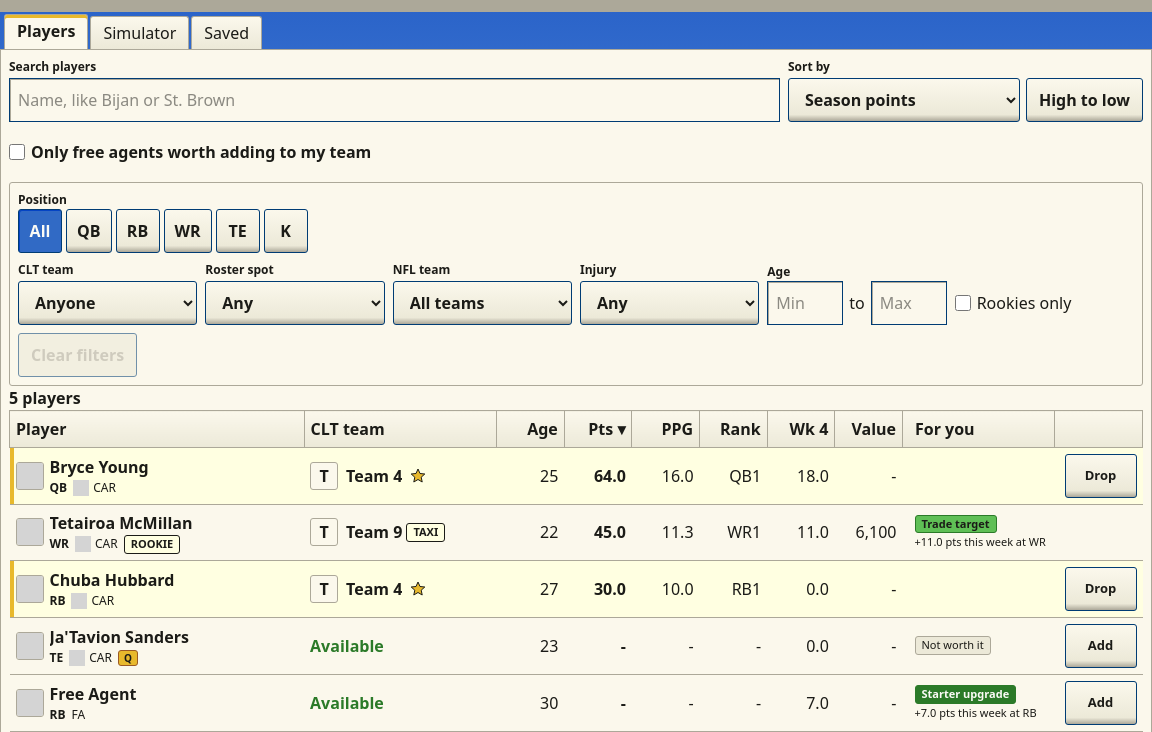
it: Players window › puts a free agent into the scenario from the list
Expected: the button "Tetairoa McMillan" is shown, [50,511,192,535]
Step 1. Click the button with aria-label "Add Free Agent" → (1100, 702), box [1064,680,1136,724]
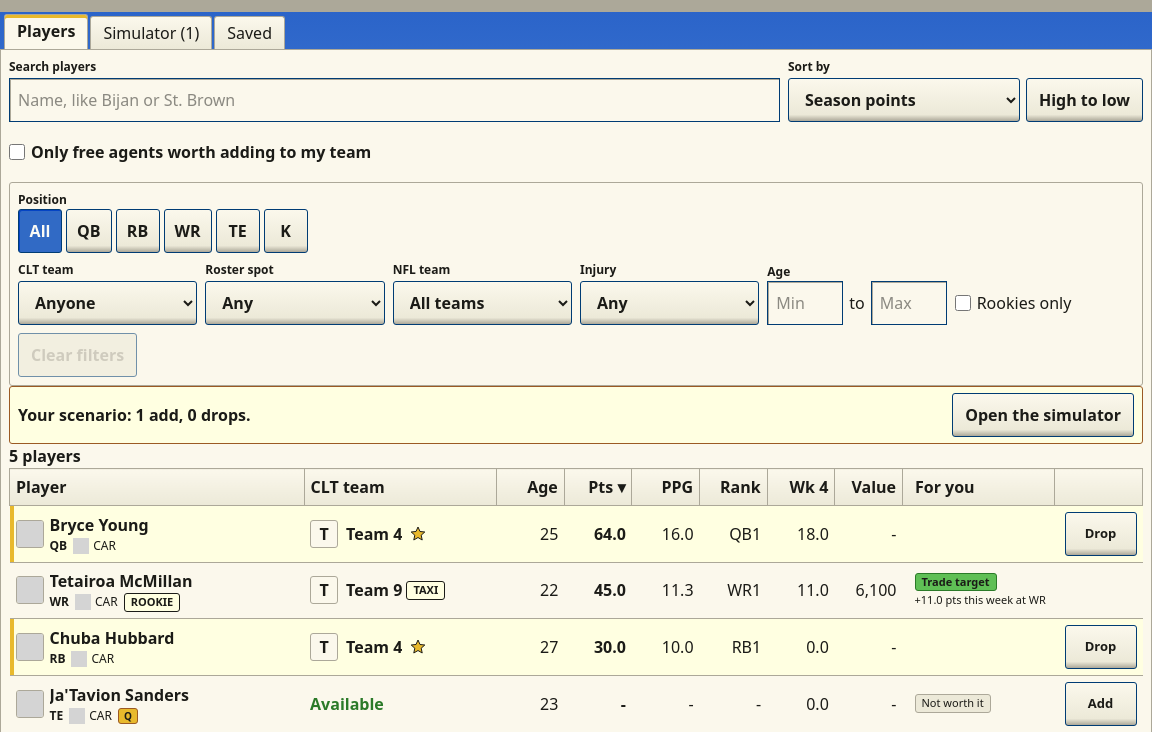
Expected: the text "Your scenario: 1 add, 0 drops." is shown, [18,403,250,427]
Expected: the tab "Simulator (1)" is shown, [90,16,212,49]
